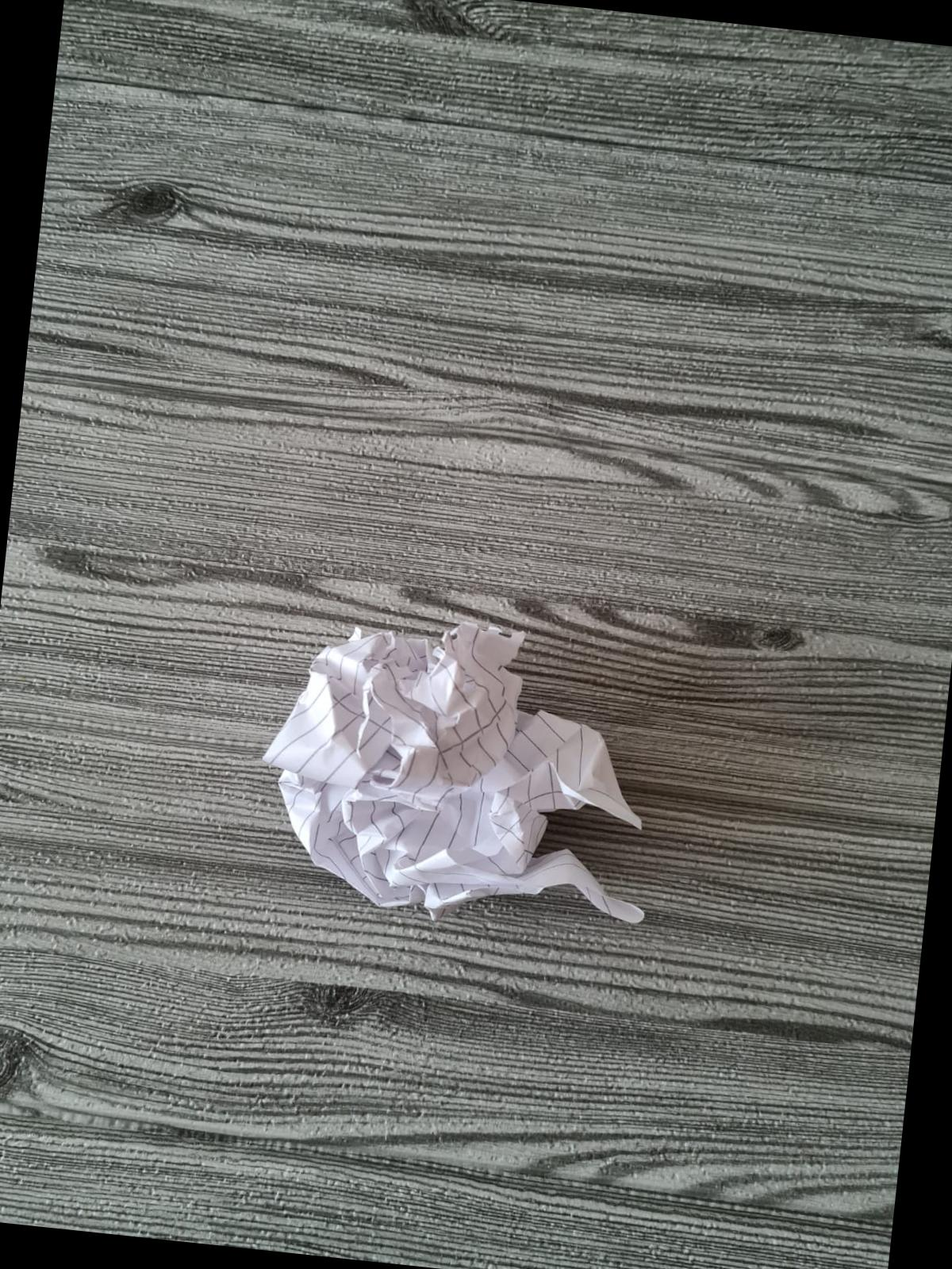Kertas: (296, 624, 586, 902)
